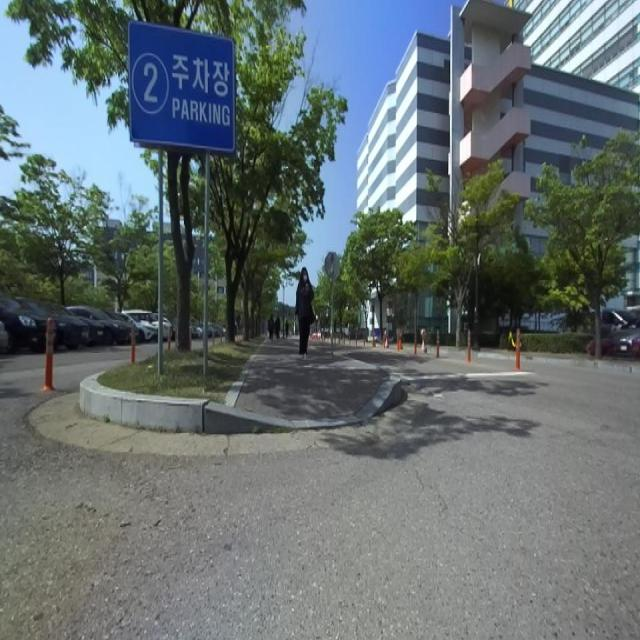sidewalk: (234, 339, 388, 420)
